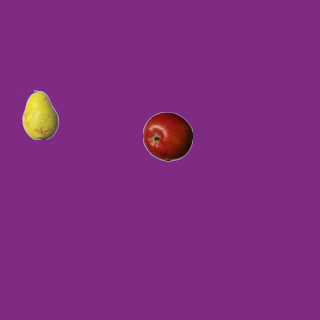Apple Braeburn: (142, 111, 192, 161)
Pear Monster: (15, 89, 65, 139)
